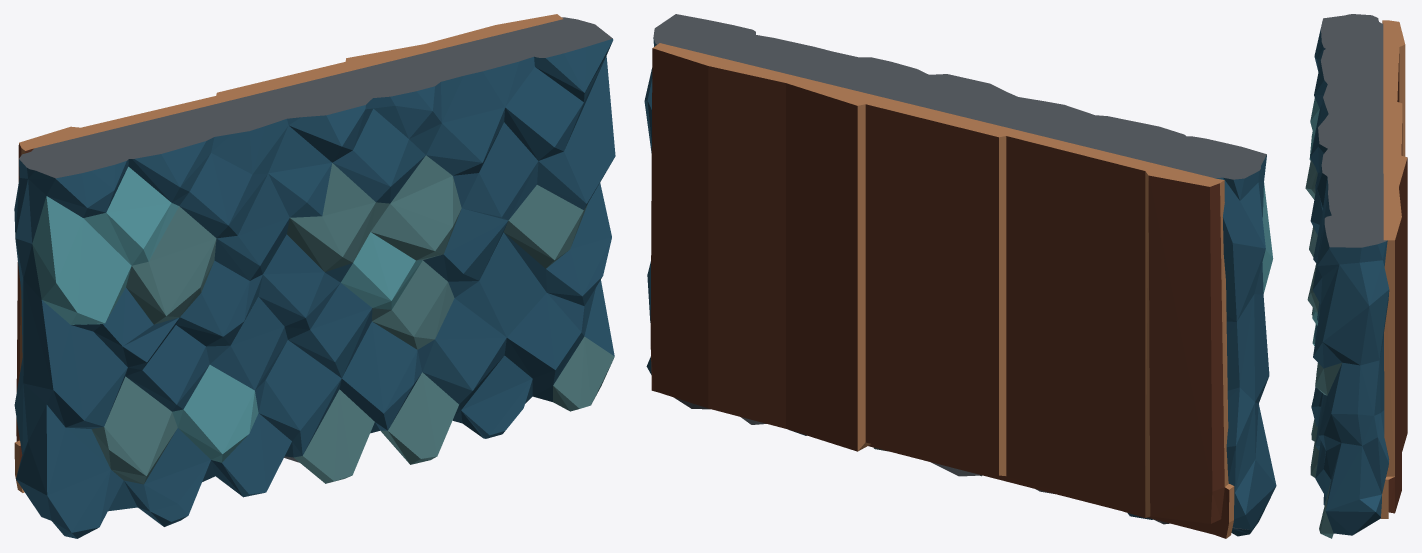
The model's file is MCastle_Roofs_03.FBX.
3 renders of one model, left to right at view 1: azimuth 30°, elevation 25°; view 2: azimuth 150°, elevation 25°; view 3: azimuth 270°, elevation 25°, orthographic. The views are drawn at different scales.
Visible parts, largest first — view 1: MCastle_Roofs_03_LOD0; view 2: MCastle_Roofs_03_LOD0; view 3: MCastle_Roofs_03_LOD0.
Boxes of the visible parts, x1,y1,x2,y2 form: MCastle_Roofs_03_LOD0: (14, 14, 615, 538); MCastle_Roofs_03_LOD0: (644, 14, 1276, 538); MCastle_Roofs_03_LOD0: (1305, 14, 1407, 538).
Size of what is drawn, in the model's own units: 4.7 by 2.88 by 0.8474.
